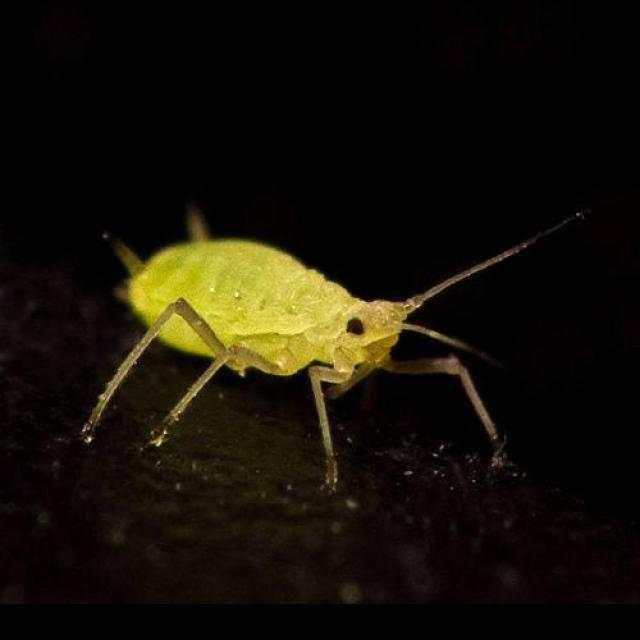aphid: (88, 200, 520, 472)
